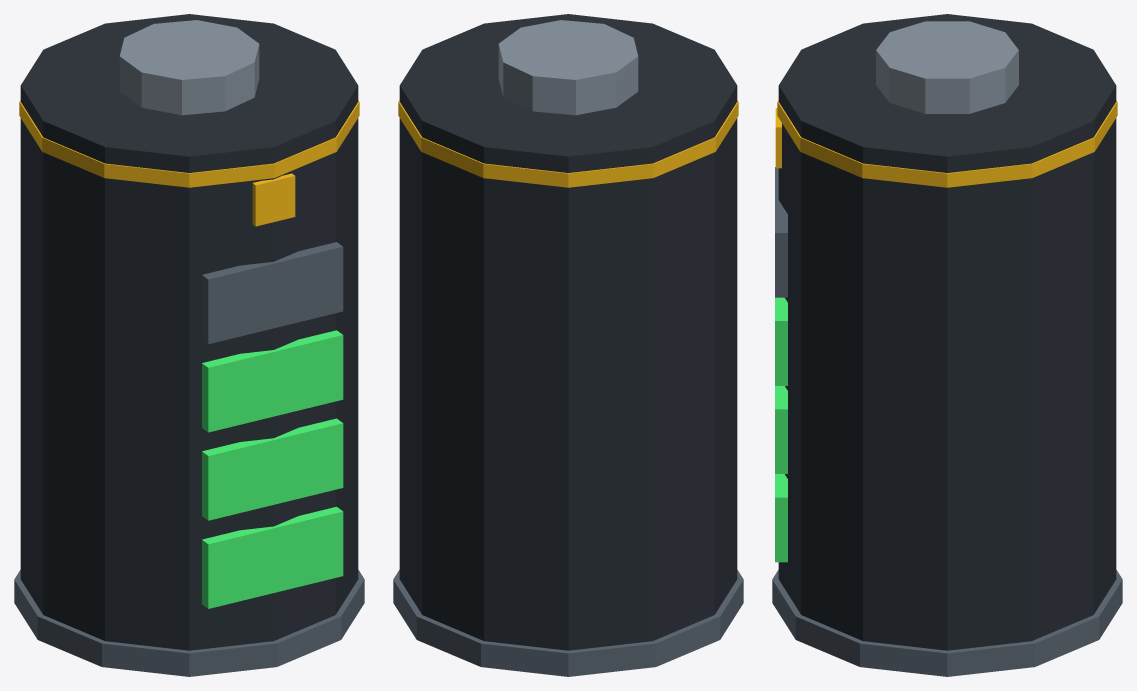
Rendered from GiantBattery.fbx.
3 views of the same model, side by side, from view 1: azimuth 30°, elevation 25°; view 2: azimuth 150°, elevation 25°; view 3: azimuth 270°, elevation 25° (orthographic).
Visible parts, largest first — view 1: GiantBattery, GiantBattery_Glow; view 2: GiantBattery; view 3: GiantBattery, GiantBattery_Glow.
Part boxes in pixels (x1,y1,x2,y2): GiantBattery: [14, 14, 364, 676]; GiantBattery_Glow: [202, 330, 343, 608]; GiantBattery: [393, 14, 743, 676]; GiantBattery: [772, 14, 1122, 676]; GiantBattery_Glow: [775, 297, 787, 562].
Size of the model in its own units: 270 by 470 by 270.
Materials: 1 (1 with a texture image).
